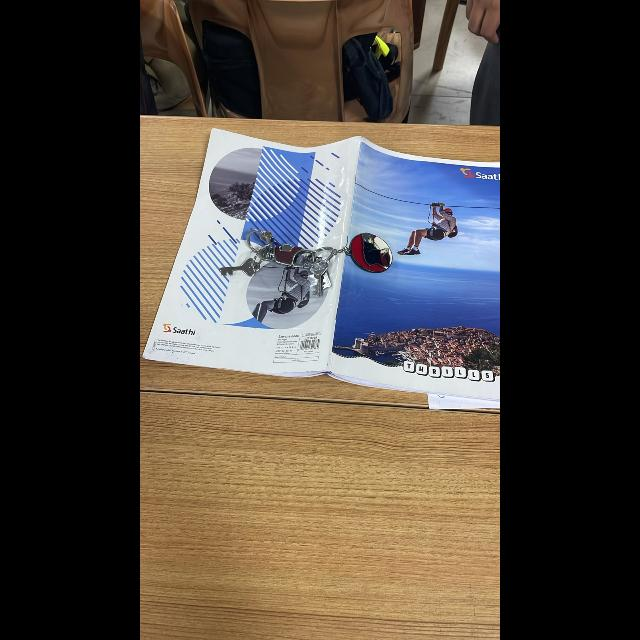keys: (221, 215, 417, 342)
